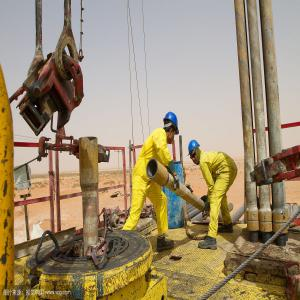blue: (162, 112, 182, 145), (188, 139, 203, 169)
